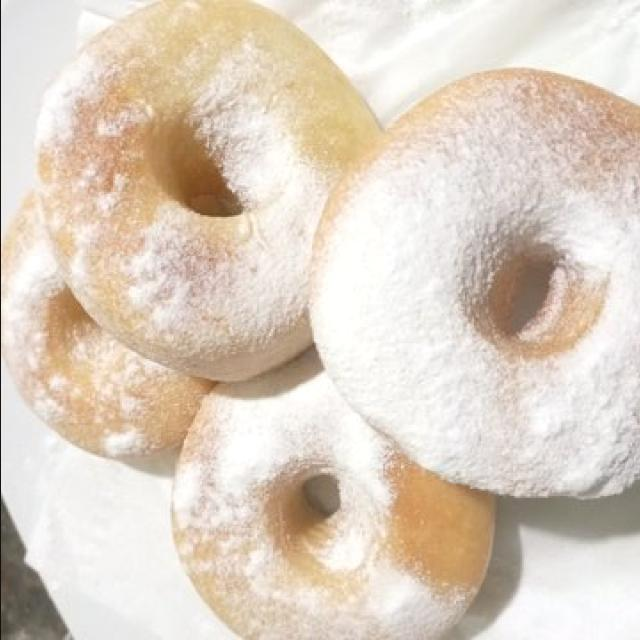donat: (308, 68, 640, 501), (34, 0, 384, 398), (169, 366, 500, 640)
